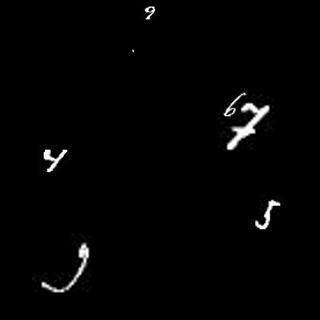dot: (127, 43, 144, 58)
five: (253, 195, 282, 228)
four: (39, 142, 69, 177)
nine: (45, 240, 91, 294), (141, 4, 157, 23)
seven: (225, 102, 272, 152)
six: (222, 89, 244, 119)
